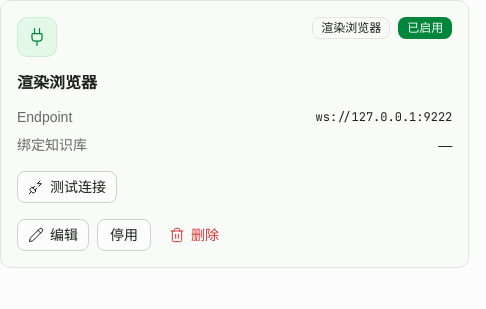
SourceConnectionList › renders a failed connection test result without throwing
Click the button "测试连接" at point(67, 187), box [17, 171, 117, 203]
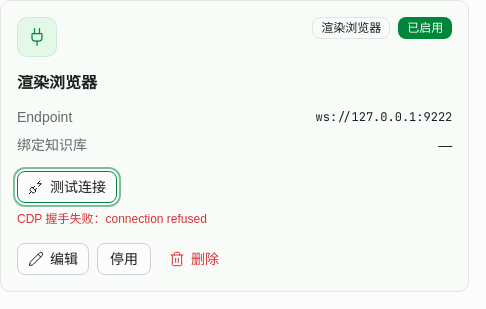
Result: the text "CDP 握手失败：connection refused" is shown at [17, 212, 207, 226]
